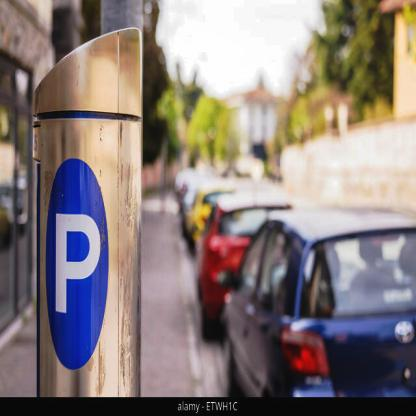Parking: (41, 155, 117, 372)
